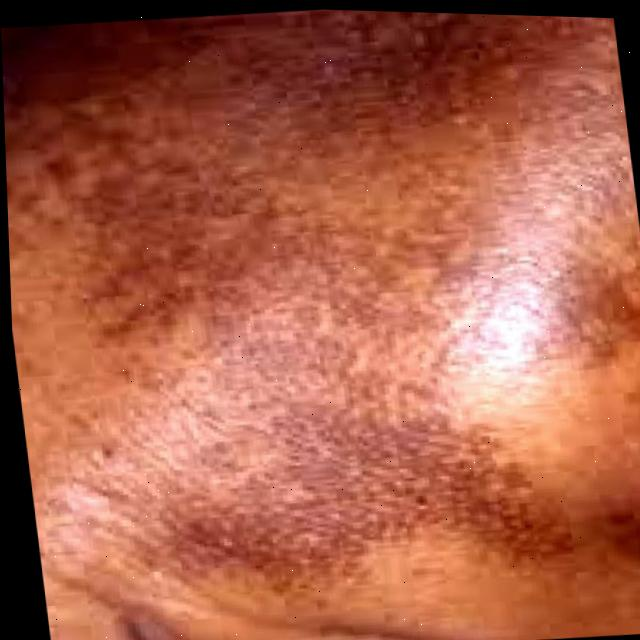Melasma: (27, 1, 640, 597)
